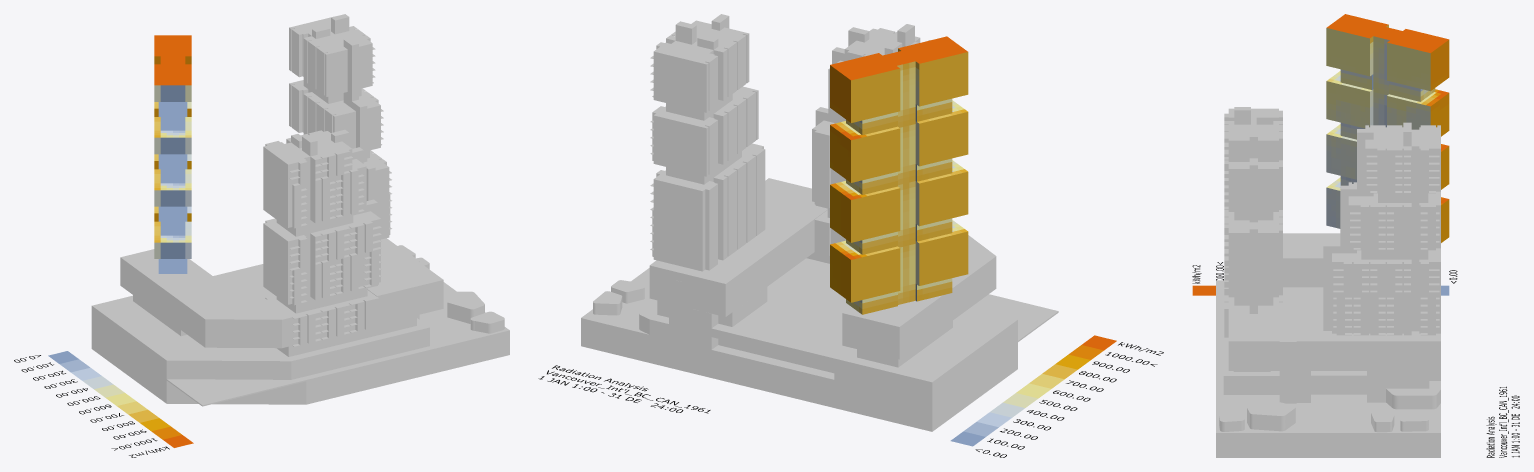
3 renders of one model, left to right at view 1: azimuth 30°, elevation 25°; view 2: azimuth 150°, elevation 25°; view 3: azimuth 270°, elevation 25°, orthographic. The views are drawn at different scales.
Parts seen in each view (by area): view 1: mesh14, mesh269, mesh22, mesh4, mesh9, mesh23, mesh32, mesh276, mesh2, mesh282, mesh272, mesh7 (+25 smaller); view 2: mesh1, mesh14, mesh32, mesh9, mesh22, mesh23, mesh89, mesh2, mesh4, mesh271, mesh88, mesh282 (+19 smaller); view 3: mesh14, mesh3, mesh32, mesh273, mesh4, mesh2, mesh274, mesh23, mesh90, mesh9, mesh89, mesh266 (+35 smaller).
Boxes of the visible parts, x1,y1,x2,y2 form: mesh14: (91, 282, 509, 404); mesh269: (198, 290, 378, 348); mesh22: (91, 295, 256, 379); mesh4: (154, 35, 191, 273); mesh9: (213, 264, 429, 379); mesh23: (120, 249, 247, 341); mesh32: (367, 238, 443, 324); mesh276: (263, 218, 307, 305); mesh2: (154, 56, 191, 258); mesh282: (48, 351, 193, 447); mesh272: (316, 35, 373, 96); mesh7: (166, 379, 306, 406); mesh1: (851, 52, 968, 314); mesh14: (581, 268, 1017, 431); mesh32: (649, 178, 827, 316); mesh9: (711, 258, 861, 384); mesh22: (855, 296, 1017, 403); mesh23: (842, 257, 988, 359); mesh89: (652, 170, 717, 271); mesh2: (830, 48, 919, 314); mesh4: (830, 36, 967, 259); mesh271: (652, 42, 717, 112); mesh88: (652, 106, 717, 176); mesh282: (950, 335, 1116, 446); mesh14: (1216, 326, 1440, 457); mesh3: (1326, 28, 1430, 228); mesh32: (1228, 308, 1440, 370); mesh273: (1224, 224, 1282, 297); mesh4: (1326, 14, 1448, 204); mesh2: (1370, 25, 1449, 242); mesh274: (1224, 160, 1282, 211); mesh23: (1283, 233, 1340, 287); mesh90: (1332, 239, 1352, 335); mesh9: (1223, 294, 1366, 394); mesh89: (1420, 248, 1440, 335); mesh266: (1224, 131, 1282, 161).
Size of the model in its own units: 166 by 118 by 117.
